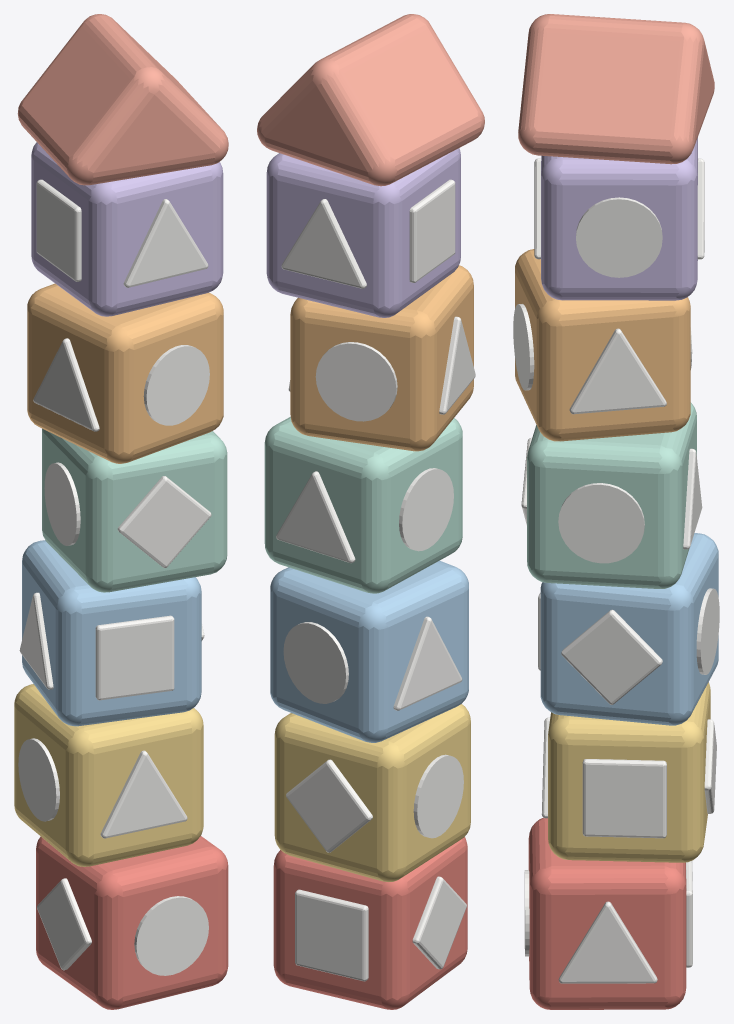
The model's file is tower.glb.
3 views of the same model, side by side, from view 1: azimuth 30°, elevation 25°; view 2: azimuth 150°, elevation 25°; view 3: azimuth 270°, elevation 25° (orthographic). The views are drawn at different scales.
Parts seen in each view (by area): view 1: Block_07_Roof, Block_05_Cube, Block_02_Cube, Block_01_Cube, Block_06_Cube, Block_03_Cube, Block_04_Cube, Block_03_Decal, Block_01_Decal, Block_06_Decal, Block_05_Decal, Block_04_Decal (+1 smaller); view 2: Block_07_Roof, Block_03_Cube, Block_04_Cube, Block_02_Cube, Block_05_Cube, Block_06_Cube, Block_01_Cube, Block_01_Decal, Block_02_Decal, Block_06_Decal, Block_03_Decal, Block_04_Decal (+1 smaller); view 3: Block_07_Roof, Block_01_Cube, Block_05_Cube, Block_04_Cube, Block_03_Cube, Block_06_Cube, Block_02_Cube, Block_02_Decal, Block_03_Decal, Block_06_Decal, Block_04_Decal, Block_05_Decal (+1 smaller).
Boxes of the visible parts, x1,y1,x2,y2 form: Block_07_Roof: [17, 14, 228, 185]; Block_05_Cube: [27, 283, 223, 463]; Block_02_Cube: [14, 684, 203, 866]; Block_01_Cube: [36, 836, 228, 1009]; Block_06_Cube: [31, 142, 223, 316]; Block_03_Cube: [22, 540, 201, 726]; Block_04_Cube: [42, 428, 227, 592]; Block_03_Decal: [19, 592, 204, 700]; Block_01_Decal: [37, 878, 208, 975]; Block_06_Decal: [36, 179, 208, 287]; Block_05_Decal: [33, 338, 209, 431]; Block_04_Decal: [44, 462, 211, 568]; Block_07_Roof: [257, 14, 484, 186]; Block_03_Cube: [270, 560, 468, 742]; Block_04_Cube: [264, 417, 462, 593]; Block_02_Cube: [274, 704, 470, 882]; Block_05_Cube: [290, 265, 473, 451]; Block_06_Cube: [266, 148, 460, 317]; Block_01_Cube: [273, 837, 467, 1009]; Block_01_Decal: [295, 876, 466, 981]; Block_02_Decal: [286, 754, 463, 852]; Block_06_Decal: [281, 179, 455, 288]; Block_03_Decal: [283, 616, 462, 710]; Block_04_Decal: [276, 468, 453, 563]; Block_07_Roof: [518, 14, 714, 164]; Block_01_Cube: [528, 818, 686, 1009]; Block_05_Cube: [515, 249, 690, 441]; Block_04_Cube: [527, 402, 696, 588]; Block_03_Cube: [540, 533, 718, 725]; Block_06_Cube: [541, 137, 697, 300]; Block_02_Cube: [548, 682, 710, 862]; Block_02_Decal: [541, 717, 716, 838]; Block_03_Decal: [538, 588, 719, 704]; Block_06_Decal: [534, 158, 704, 277]; Block_04_Decal: [521, 437, 702, 563]; Block_05_Decal: [513, 304, 692, 414].
Size of the model in its own units: 0.082 by 0.4402 by 0.0857.
